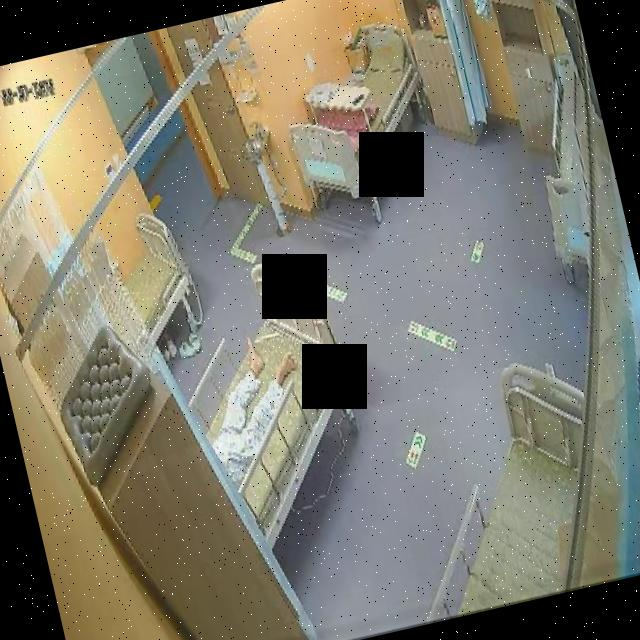bed: (376, 352, 628, 624), (170, 251, 385, 554), (268, 14, 448, 210), (110, 206, 202, 348)
lie: (190, 322, 318, 489)
patient: (190, 325, 320, 488)
